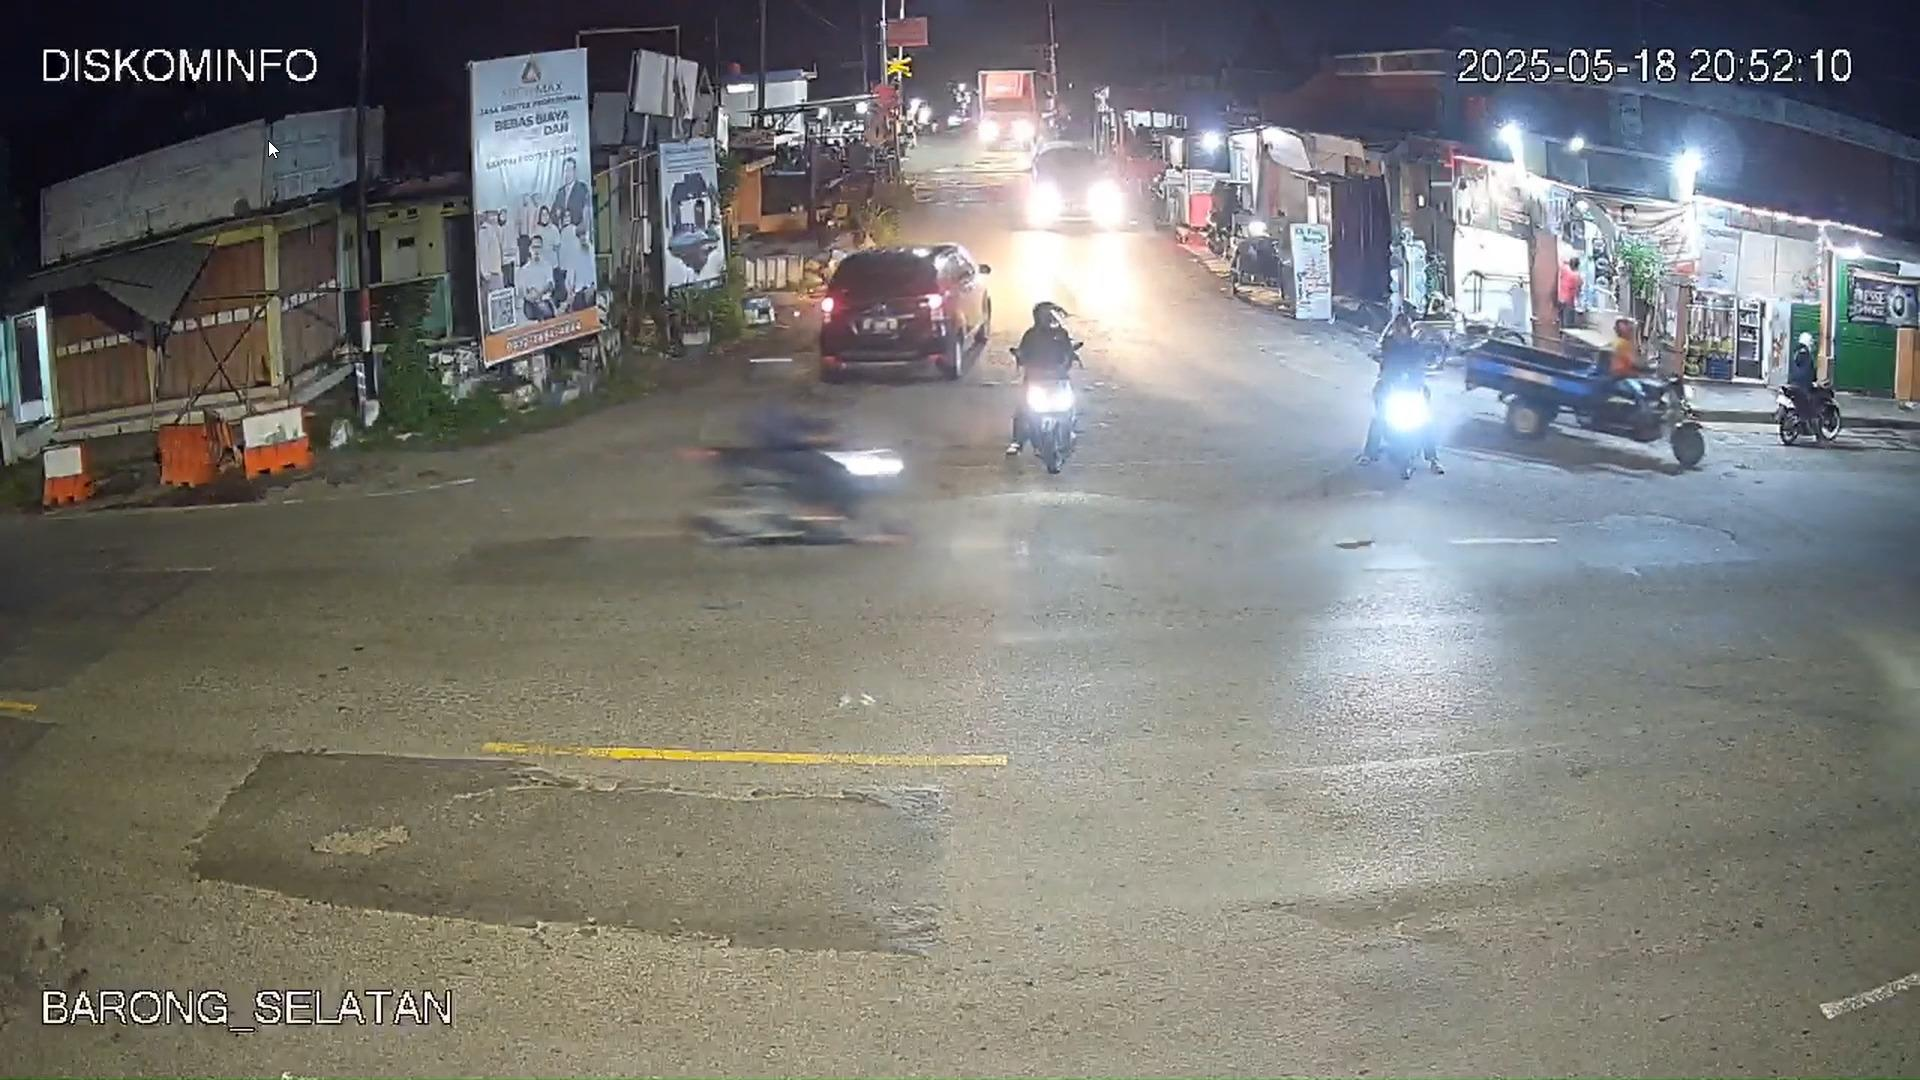Motor: (690, 405, 905, 549), (1353, 309, 1437, 476), (1017, 302, 1097, 471), (1776, 377, 1844, 447), (1785, 335, 1820, 423)
Truck: (975, 69, 1043, 153)
mobil: (815, 241, 981, 381), (1027, 140, 1114, 232)
